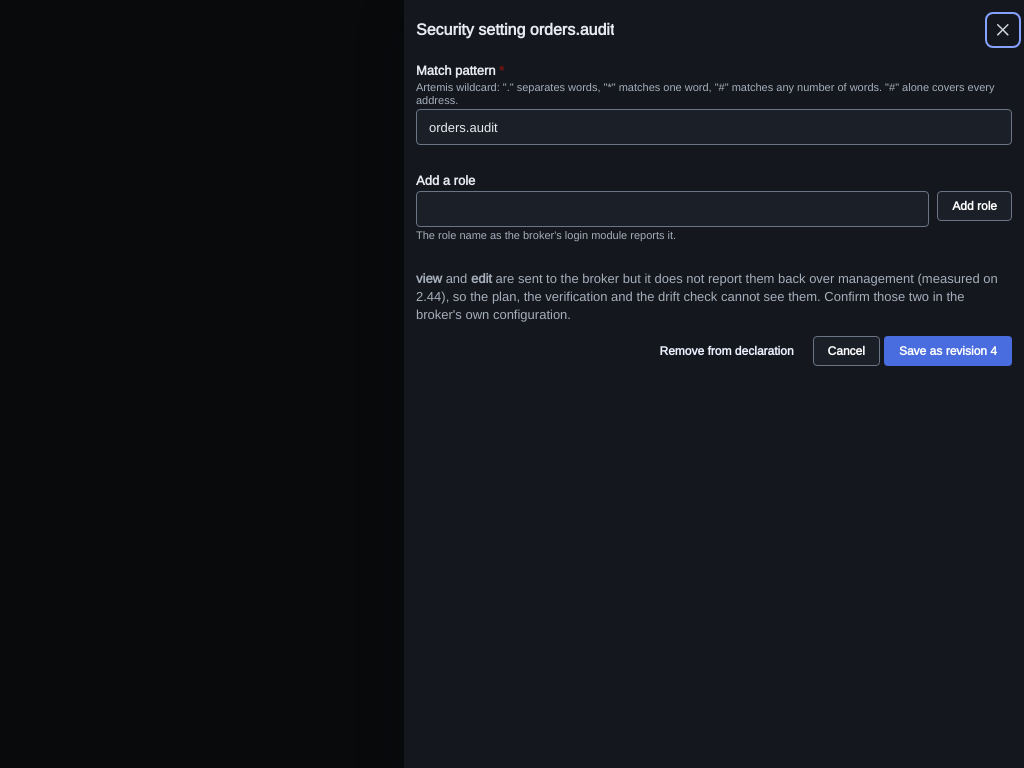
Test: SecuritySettingEditor › refuses a match with no roles, saying why beside the role field and focusing it
Click the button "Save as revision 4" at {"x": 948, "y": 351}, box [884, 336, 1012, 366]
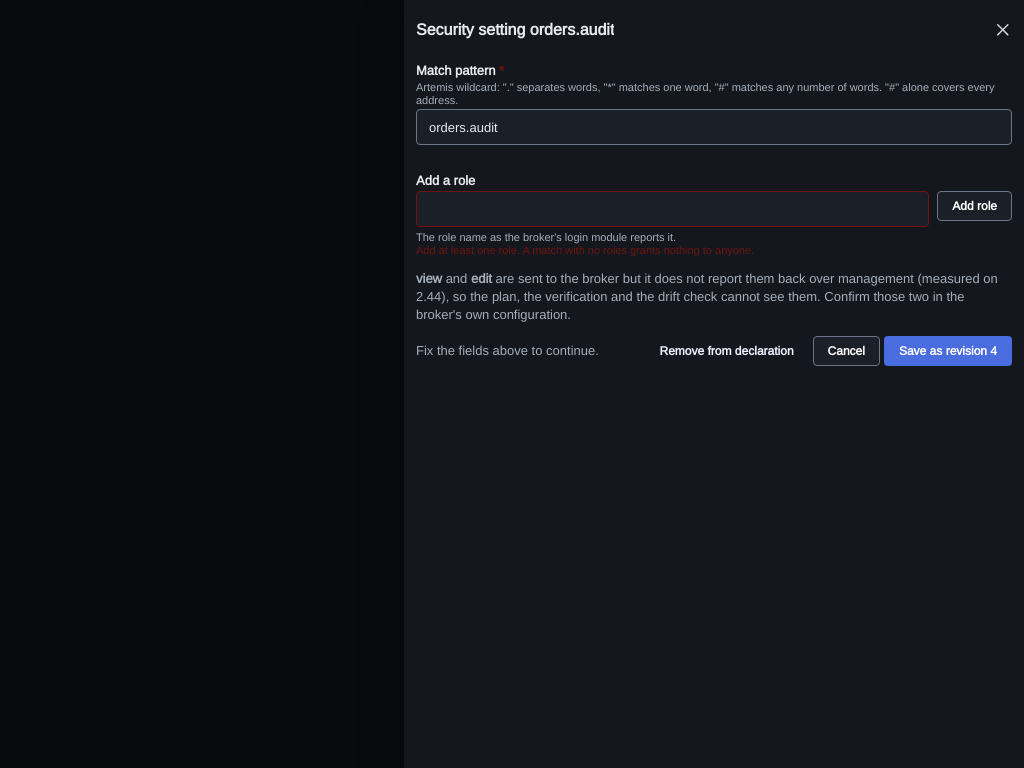
Result: the text "Add at least one role" is shown at [416, 243, 754, 257]
